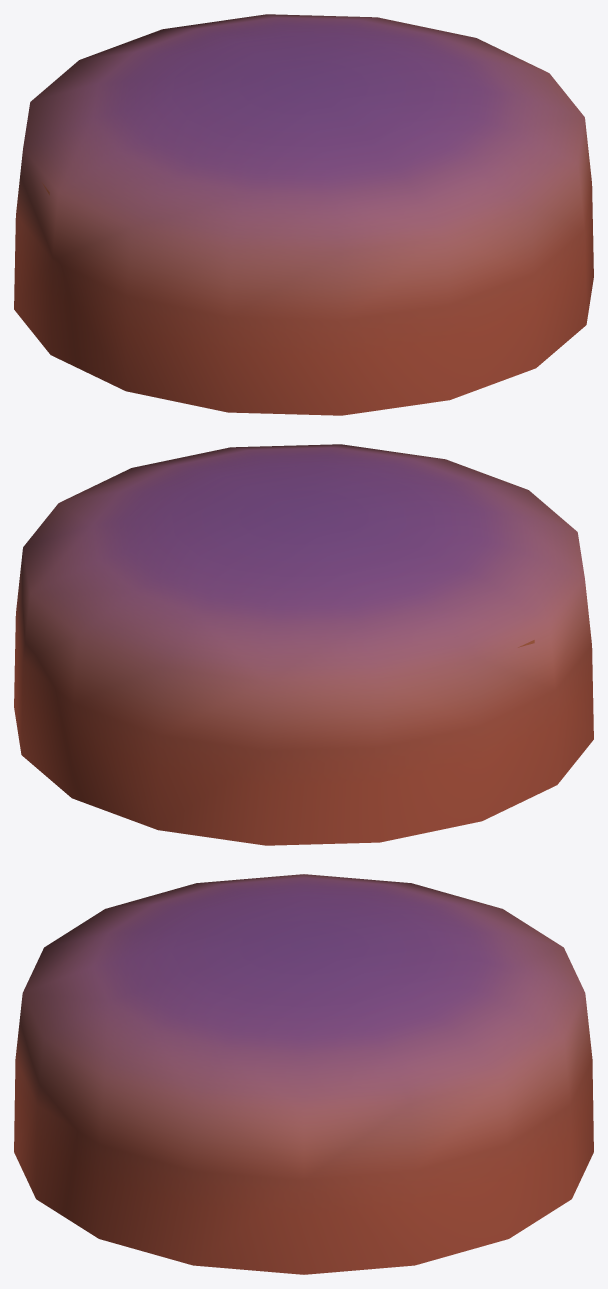
Rendered from skybox.obj.
3 views of the same model, one above another, from view 1: azimuth 30°, elevation 25°; view 2: azimuth 150°, elevation 25°; view 3: azimuth 270°, elevation 25° (orthographic).
Parts seen in each view (by area): view 1: rdmobj00; view 2: rdmobj00; view 3: rdmobj00.
Boxes of the visible parts, left/top/right/bottom form: rdmobj00: left=14, top=14, right=593, bottom=415; rdmobj00: left=14, top=444, right=593, bottom=845; rdmobj00: left=14, top=874, right=593, bottom=1274.
Size of the model in its own units: 322996 by 127426 by 322501.
4 materials, 4 textured.
